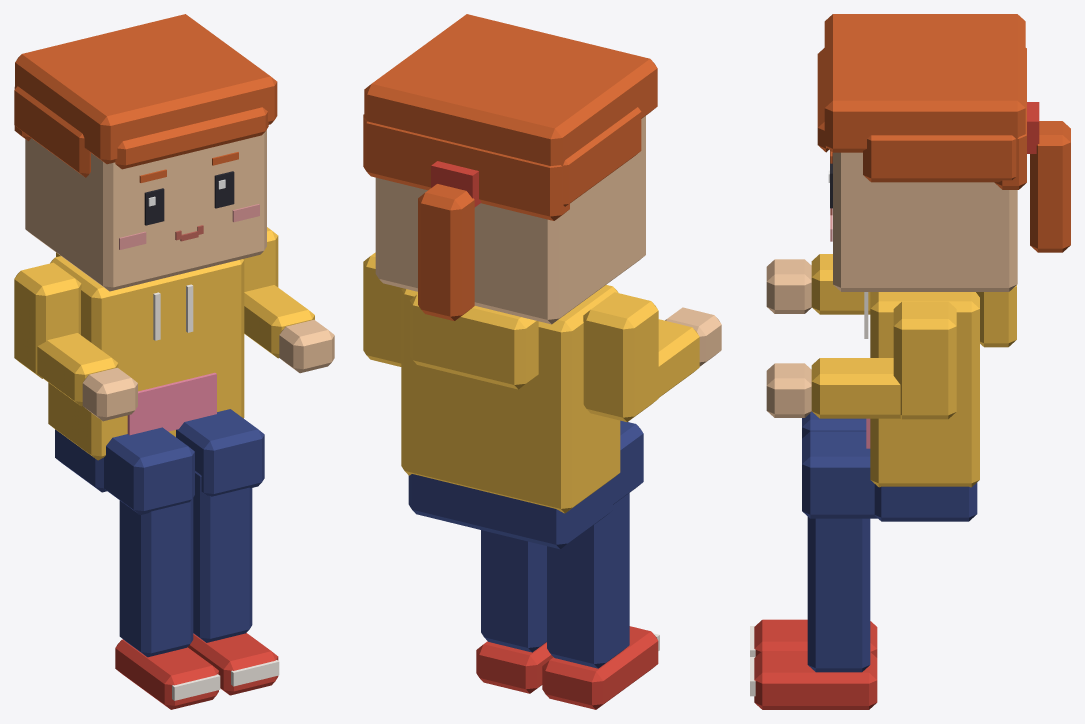
The model's file is CatCafe_NPC_Customer_J_Sit.glb.
3 renders of one model, left to right at view 1: azimuth 30°, elevation 25°; view 2: azimuth 150°, elevation 25°; view 3: azimuth 270°, elevation 25°, orthographic. The views are drawn at different scales.
Parts seen in each view (by area): view 1: CatCafe_NPC_Customer_J_Sit; view 2: CatCafe_NPC_Customer_J_Sit; view 3: CatCafe_NPC_Customer_J_Sit.
Part boxes in pixels (x1=…): CatCafe_NPC_Customer_J_Sit: x1=14, y1=14, x2=334, y2=709; CatCafe_NPC_Customer_J_Sit: x1=363, y1=14, x2=721, y2=709; CatCafe_NPC_Customer_J_Sit: x1=750, y1=14, x2=1070, y2=709.
Bounding box in the file's own units: 2.22 × 5.05 × 2.34.
Materials: 1 (1 with a texture image).
